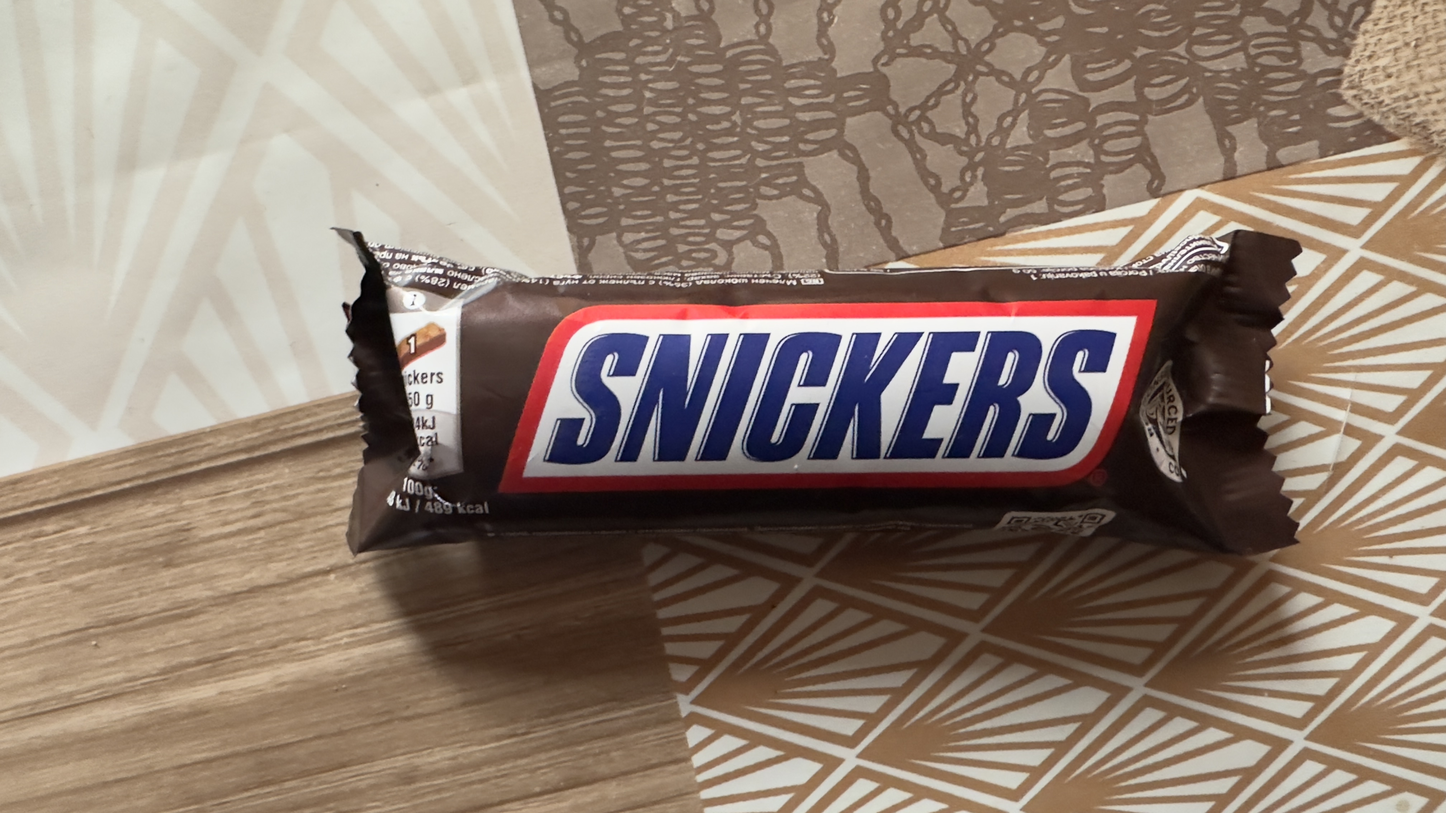SNICKERS: (328, 221, 1305, 562)
